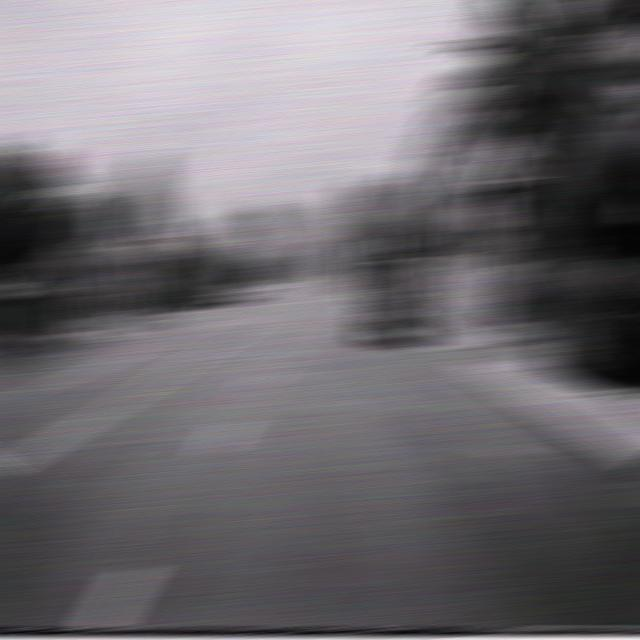pedestrianCrossing: (466, 133, 517, 193)
